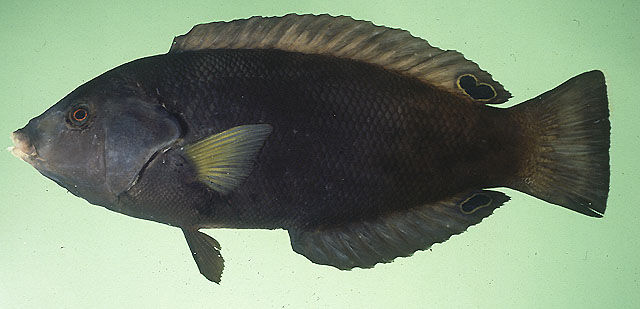fish: (7, 14, 613, 283)
